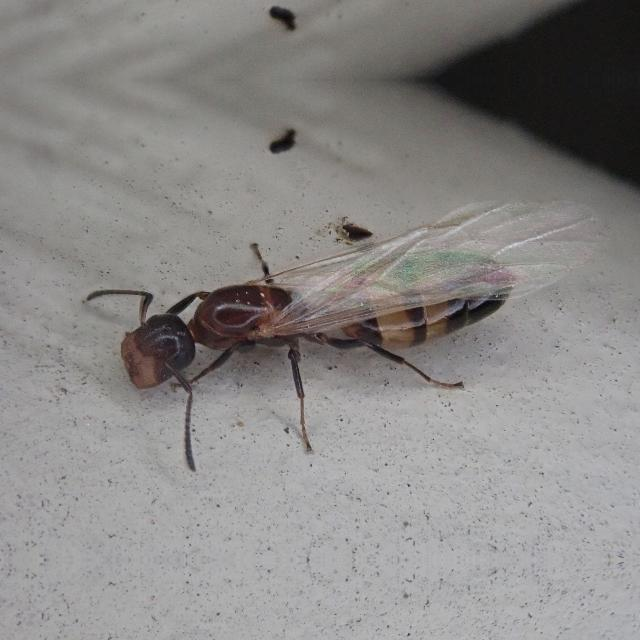Colobopsis: (66, 194, 568, 422)
